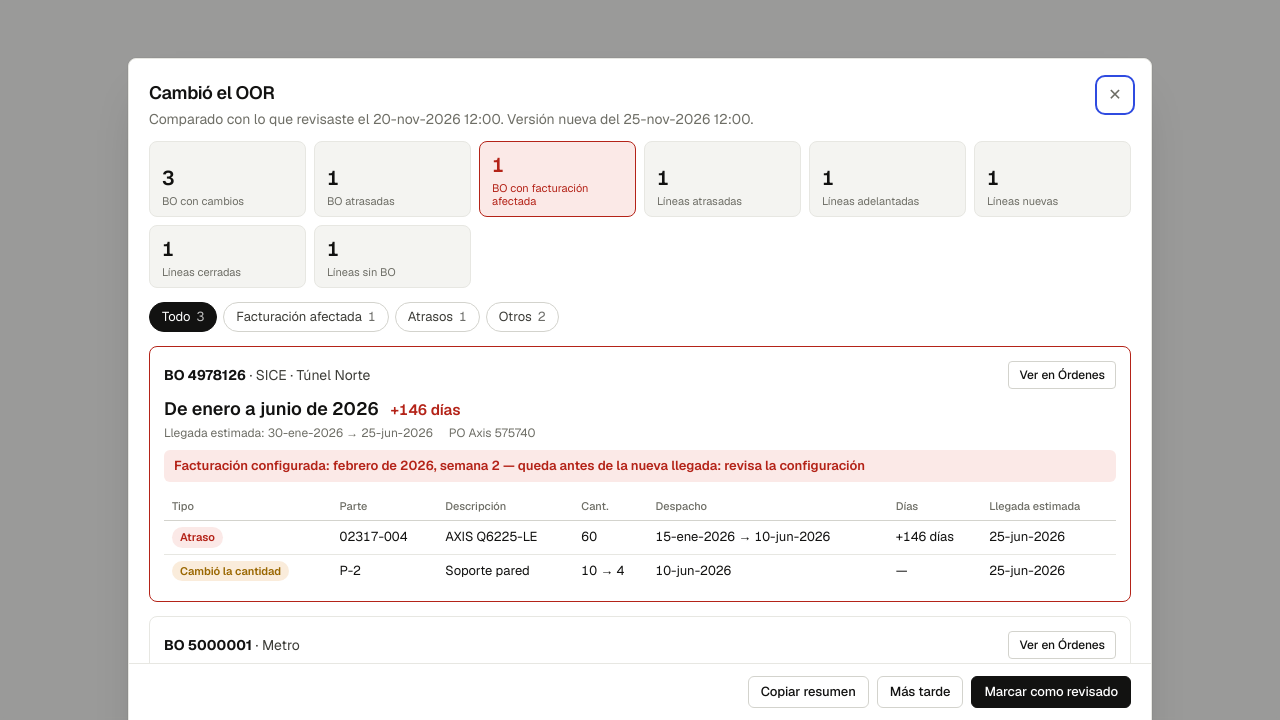
Test: AvisoCambiosOor › Ver en Órdenes pospone y avisa a quien lo montó
This screenshot has width=1280, height=720.
Click the button "Ver en Órdenes" in the row of "Metro": (1062, 645) [1008,631,1116,659]
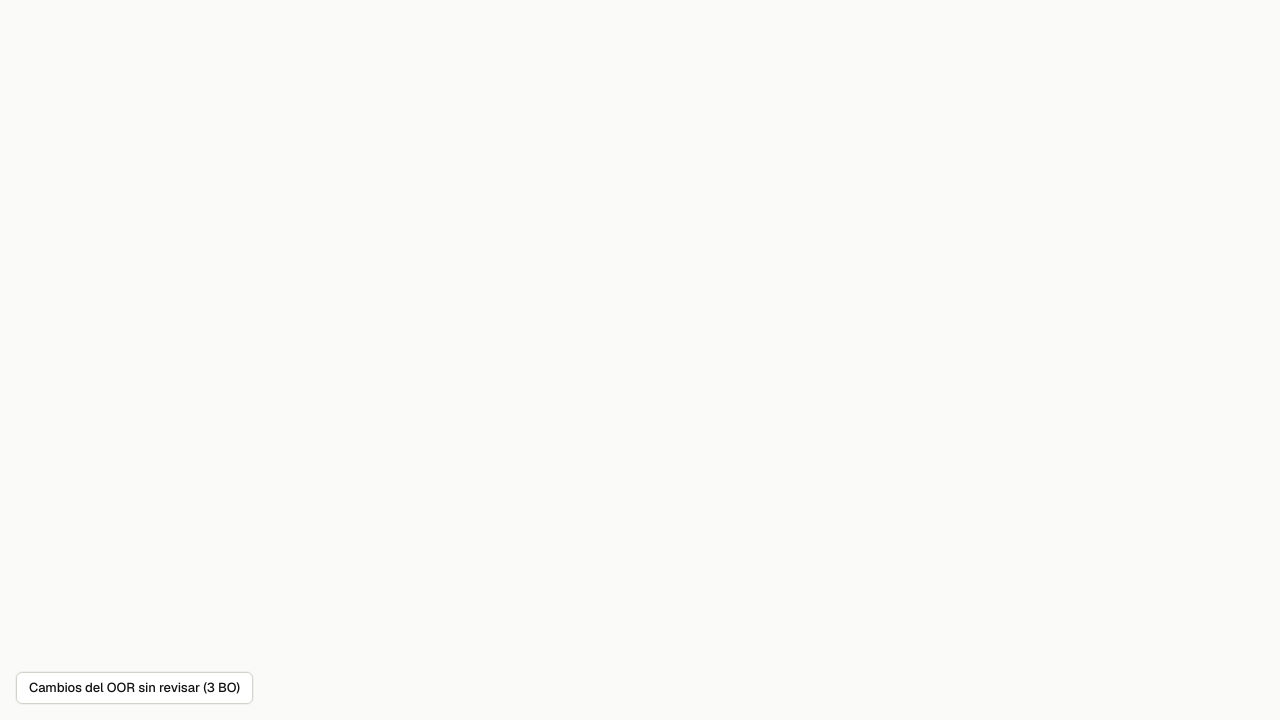
Now the heading "Cambió el OOR" is gone
